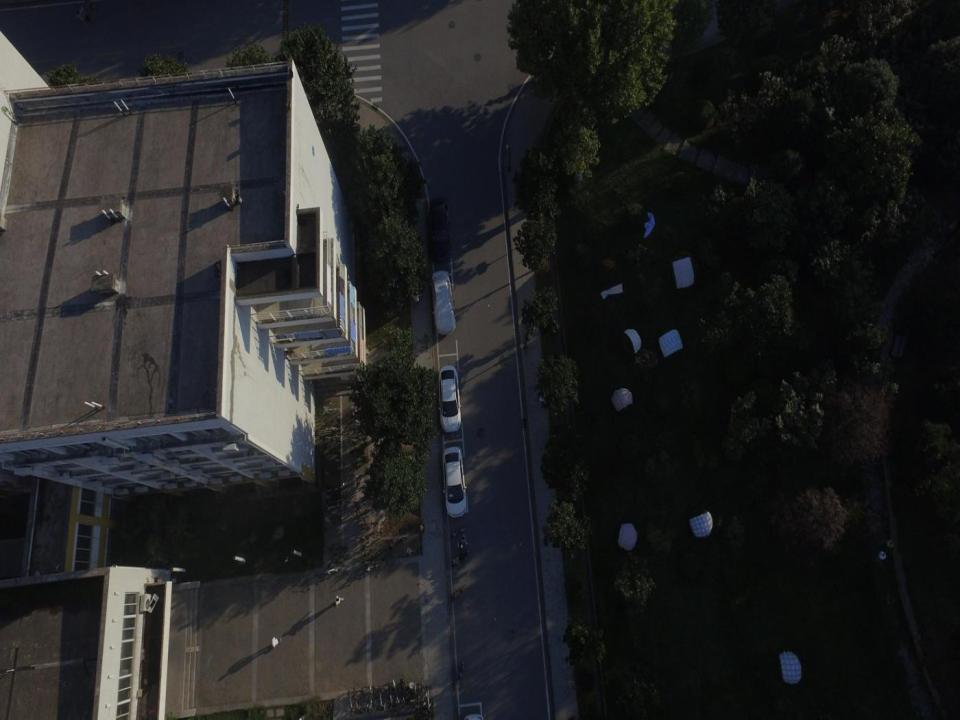car: (441, 446, 467, 516), (438, 364, 462, 436), (430, 268, 454, 334)
